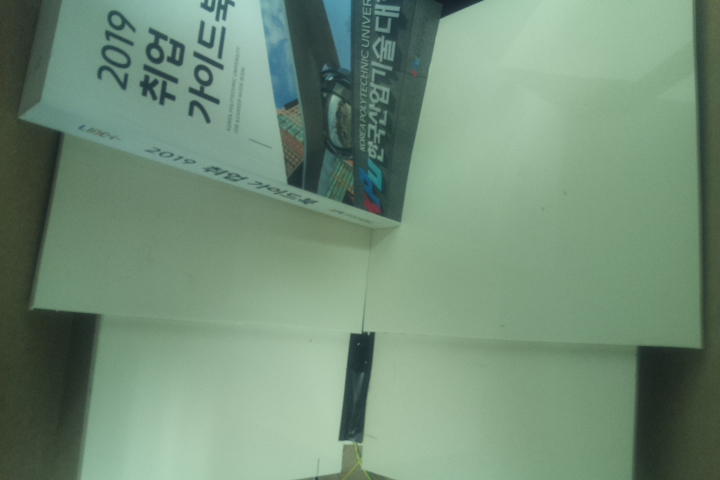book: (15, 1, 447, 235)
